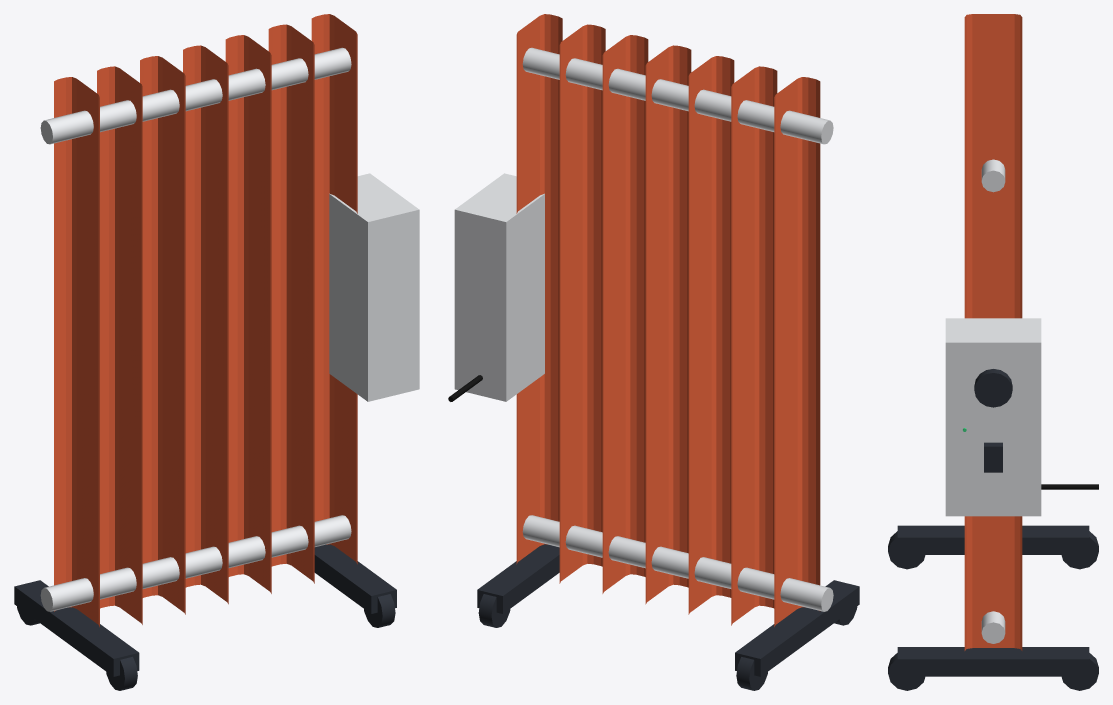
The model's file is heater-oil-column-7fin.glb.
The picture shows the model from 3 angles, left to right: view 1: azimuth 30°, elevation 25°; view 2: azimuth 150°, elevation 25°; view 3: azimuth 270°, elevation 25°; orthographic projection. The views are drawn at different scales.
Visible parts, largest first — view 1: heat_element, heater_control_box, heater_header_bottom, heater_header_top, heater_foot_1, heater_foot_2; view 2: heat_element, heater_control_box, heater_header_top, heater_header_bottom, heater_foot_1, heater_foot_2; view 3: heat_element, heater_control_box, heater_foot_2, heater_foot_1, heater_dial, heater_header_top, heater_header_bottom, heater_switch, heater_cord.
Boxes of the visible parts, x1=… form: heat_element: x1=54, y1=14, x2=357, y2=627; heater_control_box: x1=329, y1=173, x2=419, y2=401; heater_header_bottom: x1=40, y1=515, x2=351, y2=611; heater_header_top: x1=40, y1=47, x2=351, y2=144; heater_foot_1: x1=14, y1=580, x2=139, y2=690; heater_foot_2: x1=314, y1=544, x2=396, y2=627; heat_element: x1=516, y1=14, x2=820, y2=626; heater_control_box: x1=454, y1=173, x2=544, y2=401; heater_header_top: x1=522, y1=47, x2=833, y2=144; heater_header_bottom: x1=522, y1=515, x2=833, y2=611; heater_foot_1: x1=735, y1=580, x2=859, y2=690; heater_foot_2: x1=477, y1=544, x2=559, y2=627; heat_element: x1=964, y1=14, x2=1022, y2=650; heater_control_box: x1=945, y1=318, x2=1041, y2=516; heater_foot_2: x1=888, y1=647, x2=1098, y2=690; heater_foot_1: x1=888, y1=525, x2=1098, y2=569; heater_dial: x1=974, y1=369, x2=1012, y2=407; heater_header_top: x1=981, y1=159, x2=1005, y2=192; heater_header_bottom: x1=981, y1=611, x2=1005, y2=643; heater_switch: x1=984, y1=442, x2=1002, y2=472; heater_cord: x1=1041, y1=484, x2=1098, y2=489.
Bounding box in the file's own units: 0.415 × 0.63 × 0.22.
